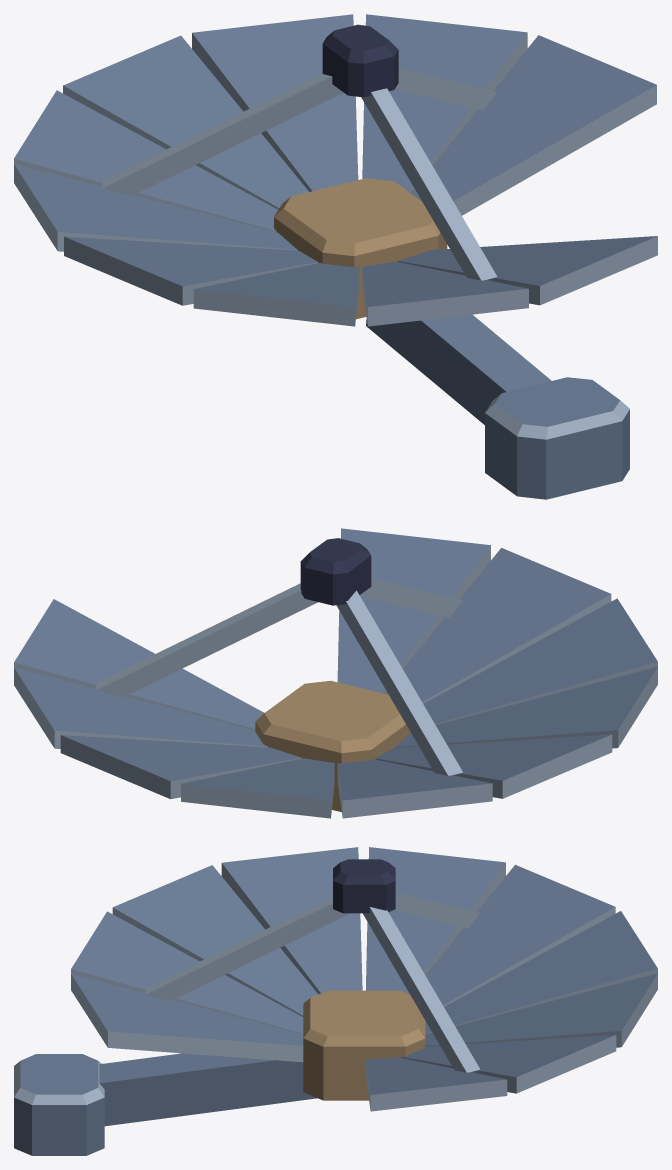
The model's file is broken_survey_dish.glb.
The picture shows the model from 3 angles, top to bottom: view 1: azimuth 30°, elevation 25°; view 2: azimuth 150°, elevation 25°; view 3: azimuth 270°, elevation 25°; orthographic projection. The views are drawn at different scales.
Parts seen in each view (by area): view 1: broken_survey_dish; view 2: broken_survey_dish; view 3: broken_survey_dish.
Part boxes in pixels (x1,y1,x2,y2): broken_survey_dish: (14,14,657,499); broken_survey_dish: (14,528,657,818); broken_survey_dish: (14,847,657,1155).
Bounding box in the file's own units: 3.56 × 1.73 × 3.9.
